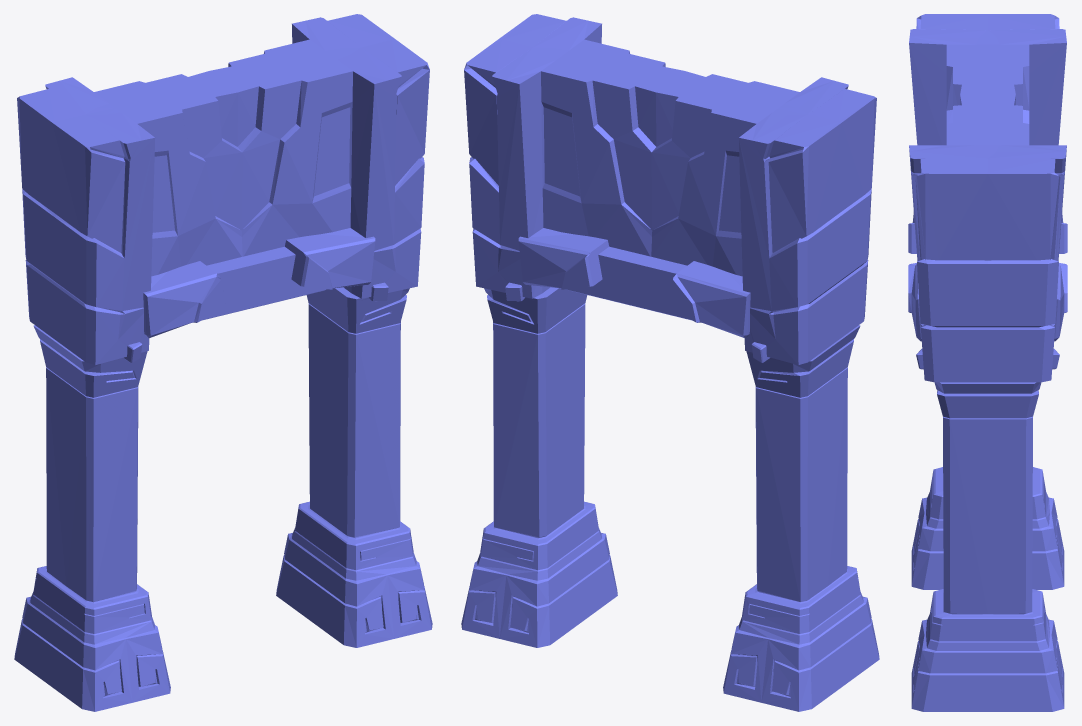
The model's file is gate_pillar_01_SM.fbx.
The picture shows the model from 3 angles, left to right: view 1: azimuth 30°, elevation 25°; view 2: azimuth 150°, elevation 25°; view 3: azimuth 270°, elevation 25°; orthographic projection. The views are drawn at different scales.
Visible parts, largest first — view 1: gate_pillar_01_SM; view 2: gate_pillar_01_SM; view 3: gate_pillar_01_SM.
Part boxes in pixels (x1,y1,x2,y2): gate_pillar_01_SM: [14, 14, 432, 711]; gate_pillar_01_SM: [461, 14, 879, 711]; gate_pillar_01_SM: [908, 14, 1067, 711].
Bounding box in the file's own units: 430 × 658 × 177.
